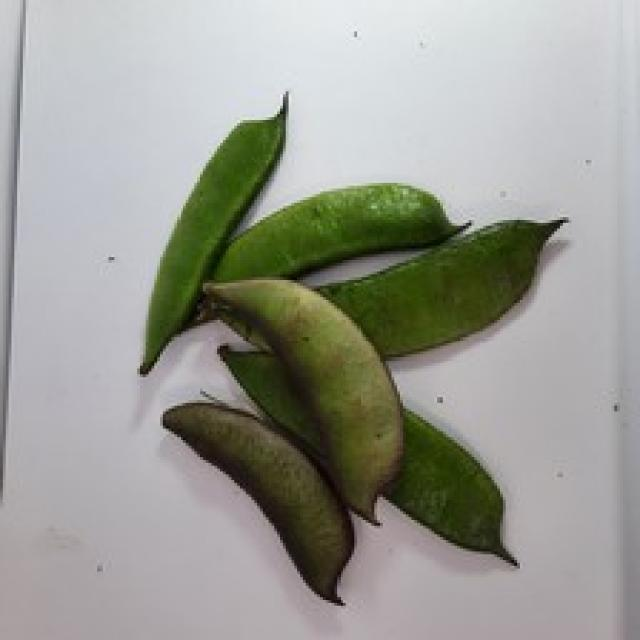Bean: (197, 274, 406, 526), (137, 89, 289, 374), (160, 397, 354, 606), (306, 214, 568, 357), (206, 180, 463, 283)
